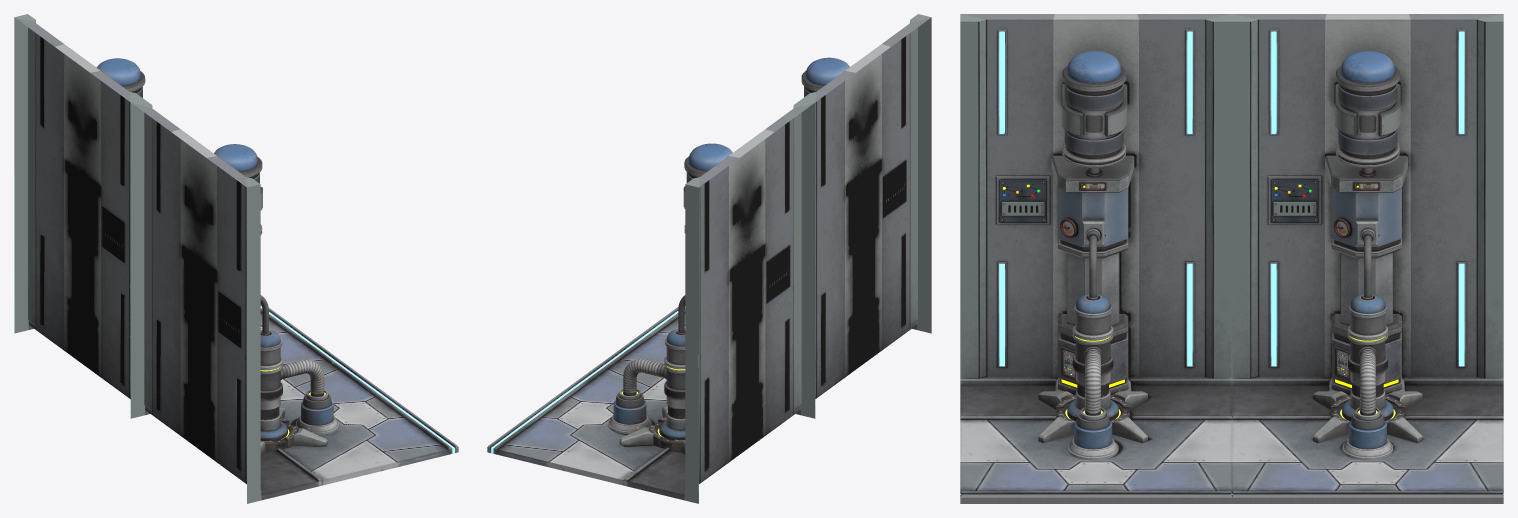
File: oxigeno.glb
3 renders of one model, left to right at view 1: azimuth 30°, elevation 25°; view 2: azimuth 150°, elevation 25°; view 3: azimuth 270°, elevation 25°, orthographic. The views are drawn at different scales.
Parts seen in each view (by area): view 1: Object_25; view 2: Object_25; view 3: Object_25.
Part boxes in pixels (x1,y1,x2,y2): Object_25: [14, 14, 458, 503]; Object_25: [487, 14, 931, 503]; Object_25: [960, 14, 1503, 503].
Bounding box in the file's own units: 2.1 × 3 × 4.
Materials: 3 (3 with a texture image).
